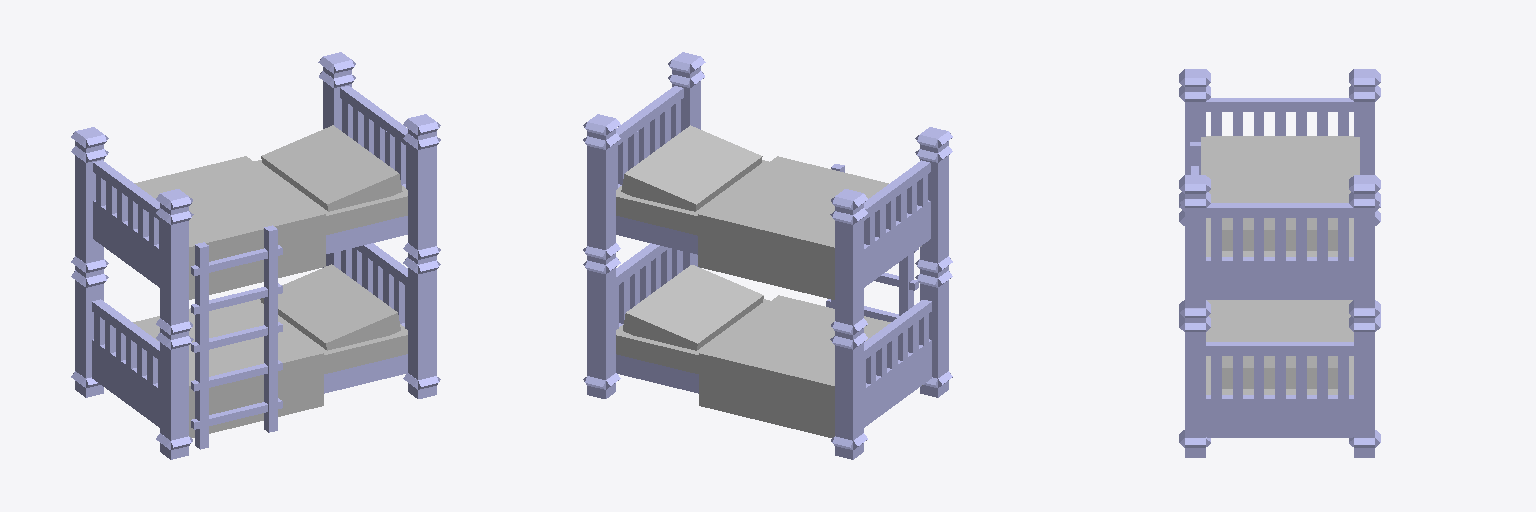
The model's file is Cama.obj.
The picture shows the model from 3 angles: view 1: azimuth 30°, elevation 25°; view 2: azimuth 150°, elevation 25°; view 3: azimuth 270°, elevation 25°; orthographic projection.
Visible parts, largest first — view 1: madeira, lencois1, lencois2; view 2: madeira, lencois1, lencois2; view 3: madeira, lencois1, lencois2.
Boxes of the visible parts, box(x1,y1,x2,y2) form: madeira: box(71, 52, 440, 459); lencois1: box(94, 125, 407, 299); lencois2: box(133, 264, 407, 437); madeira: box(583, 52, 952, 459); lencois1: box(616, 125, 929, 299); lencois2: box(616, 265, 922, 437); madeira: box(1179, 69, 1380, 457); lencois1: box(1201, 136, 1359, 260); lencois2: box(1206, 300, 1353, 394).
Size of the model in its own units: 210 by 199 by 133.